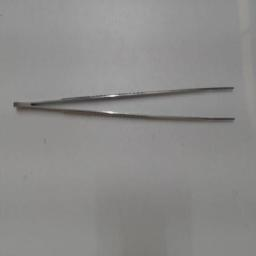DeBakey Dissector: (8, 70, 248, 142)
